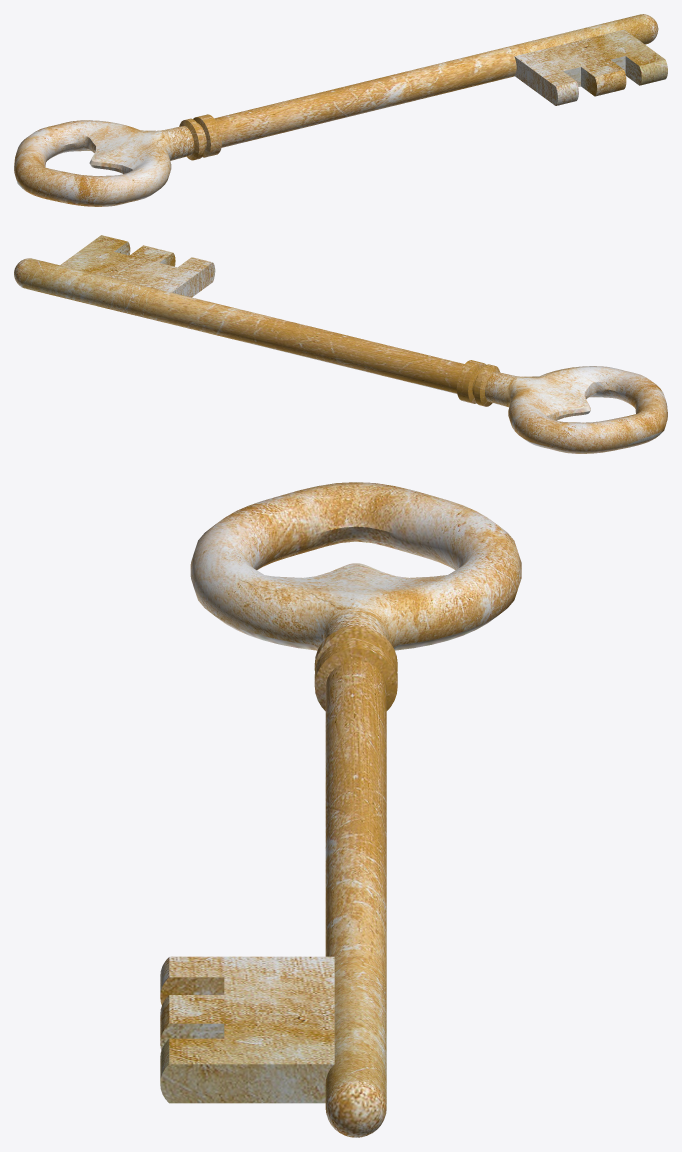
Rendered from kljuc_tex.obj.
3 views of the same model, one above another, from view 1: azimuth 30°, elevation 25°; view 2: azimuth 150°, elevation 25°; view 3: azimuth 270°, elevation 25° (orthographic). The views are drawn at different scales.
Parts seen in each view (by area): view 1: kljuc_Cylinder; view 2: kljuc_Cylinder; view 3: kljuc_Cylinder.
Part boxes in pixels (bbox=[...]): kljuc_Cylinder: bbox=[14, 14, 667, 206]; kljuc_Cylinder: bbox=[14, 235, 667, 453]; kljuc_Cylinder: bbox=[160, 482, 521, 1137].
Bounding box in the file's own units: 5.63 × 0.3181 × 1.39.
1 material, 1 textured.
